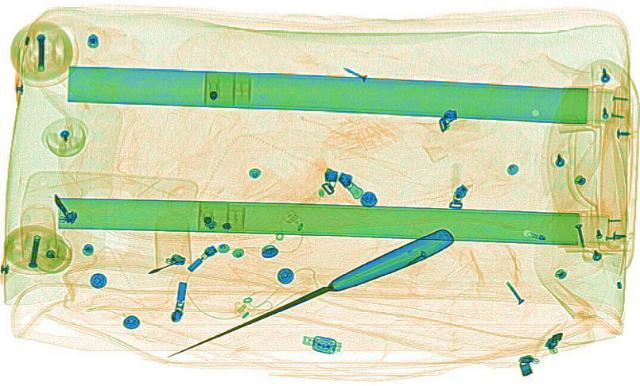Knife: (154, 225, 463, 362)
